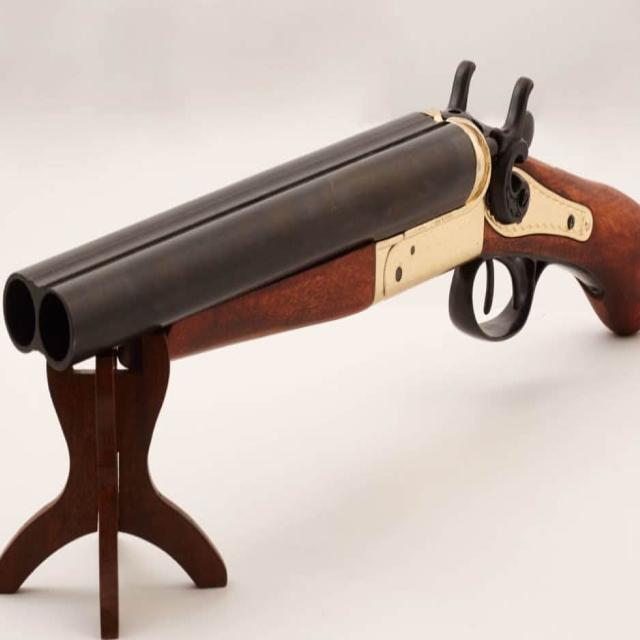Weapon: (3, 62, 640, 368)
